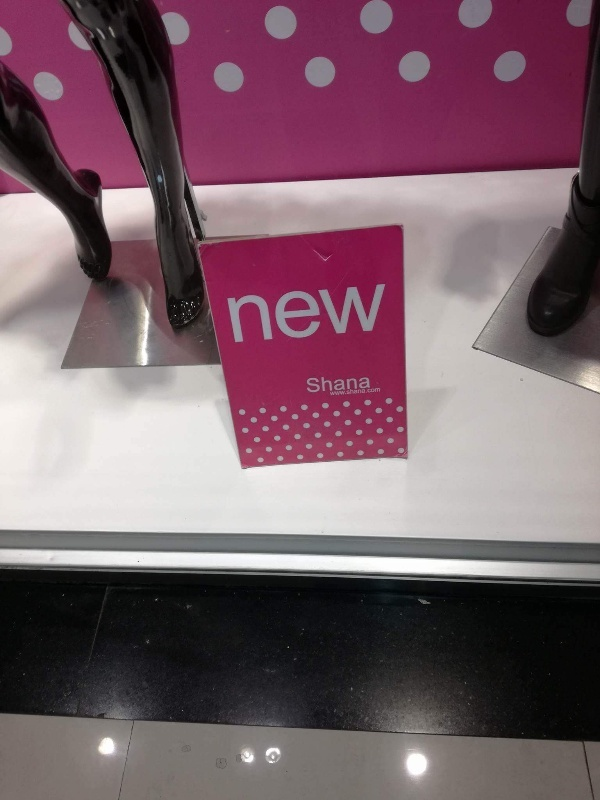text: (241, 284, 256, 344), (257, 284, 272, 344), (273, 284, 288, 344), (289, 284, 304, 344), (305, 284, 320, 344), (321, 284, 336, 344), (337, 284, 352, 344), (353, 284, 368, 344), (369, 284, 384, 344), (227, 284, 240, 344), (321, 372, 336, 394), (337, 372, 352, 394), (353, 372, 368, 394), (306, 372, 320, 394), (337, 387, 352, 397), (353, 387, 368, 397), (369, 387, 382, 397), (385, 284, 386, 344), (330, 387, 336, 397), (369, 372, 371, 394)
